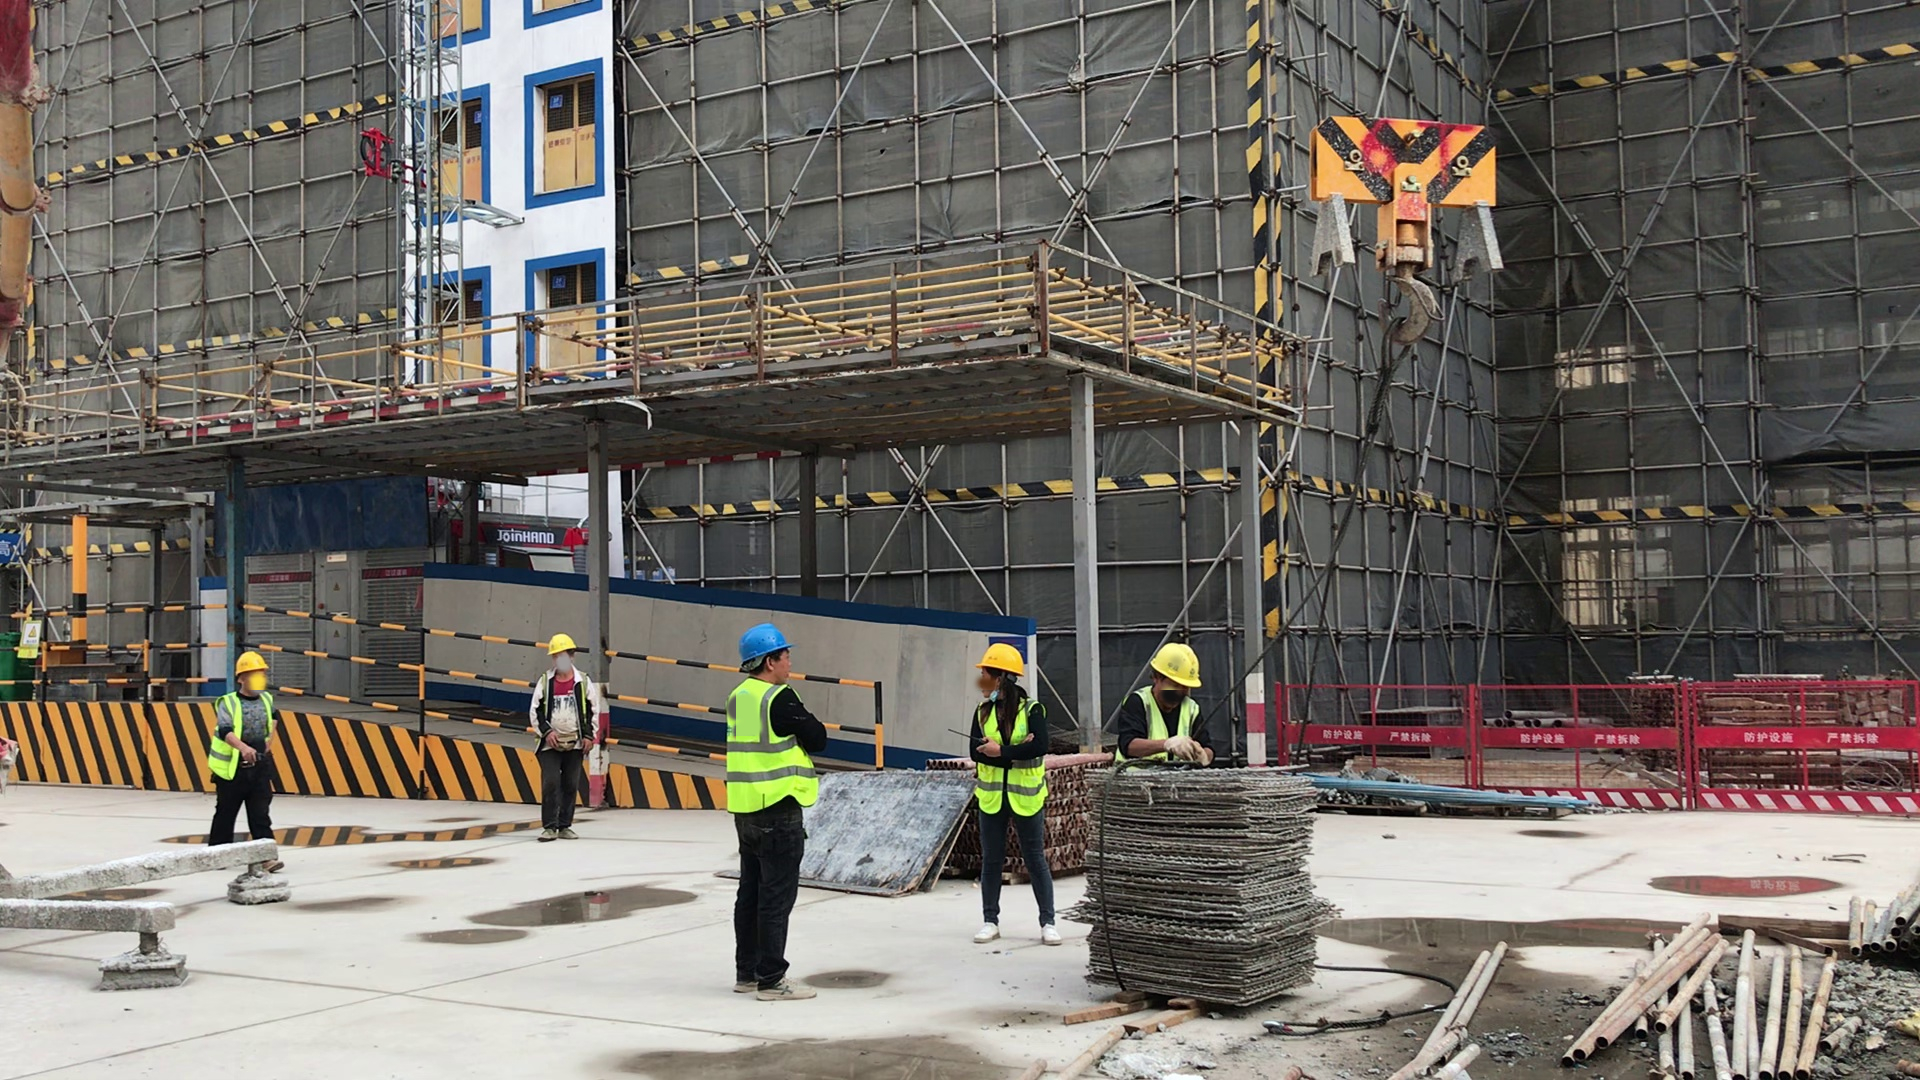board: (717, 758, 987, 912)
fence: (4, 603, 917, 791), (1264, 669, 1920, 818)
helmet: (1144, 633, 1212, 695), (731, 623, 812, 669), (973, 637, 1036, 683), (539, 629, 594, 662), (232, 646, 278, 680)
hook: (1273, 82, 1522, 393)
person: (713, 619, 850, 1015), (961, 638, 1067, 961), (520, 626, 613, 850), (205, 643, 302, 846), (1116, 631, 1238, 788)
scaffold: (922, 735, 1108, 885)
slogan: (17, 607, 54, 695), (1, 514, 33, 601), (485, 521, 563, 552)
vest: (725, 674, 830, 821), (969, 695, 1052, 820), (1120, 674, 1213, 772), (210, 691, 284, 779), (529, 669, 598, 748)
